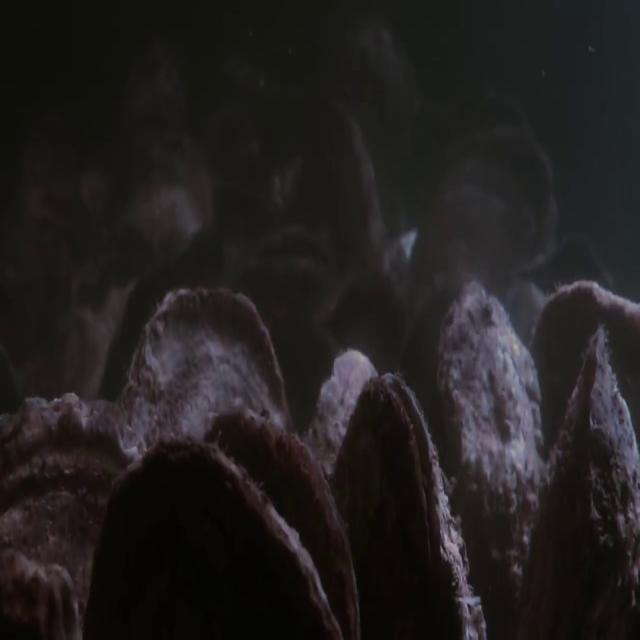Oyster-Closed: (79, 432, 348, 639), (328, 370, 488, 637), (517, 320, 639, 628), (205, 401, 364, 637), (7, 387, 146, 610)
Oyster-Indeterminate: (436, 284, 545, 637), (120, 282, 293, 440), (529, 277, 638, 443), (307, 344, 381, 472)
